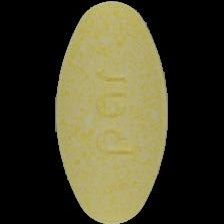16590-146: (0, 0, 224, 224)
